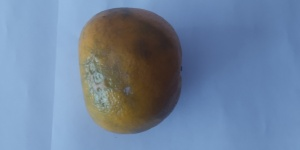BAD: (77, 5, 188, 135)
